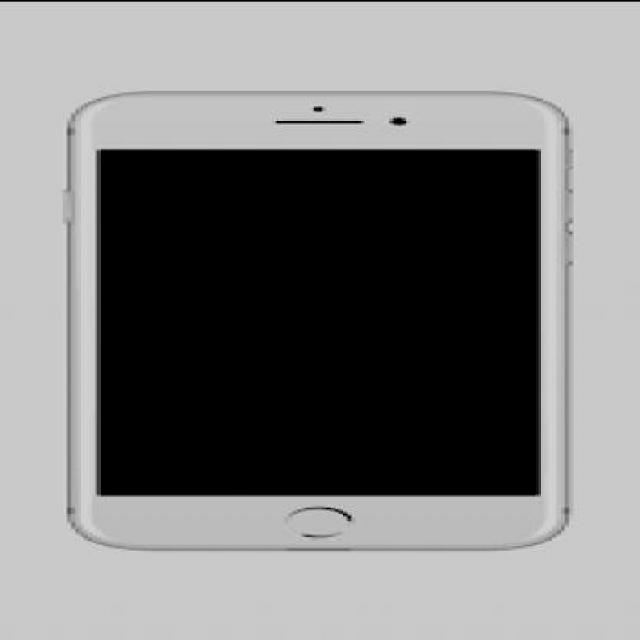fake: (63, 89, 577, 551)
